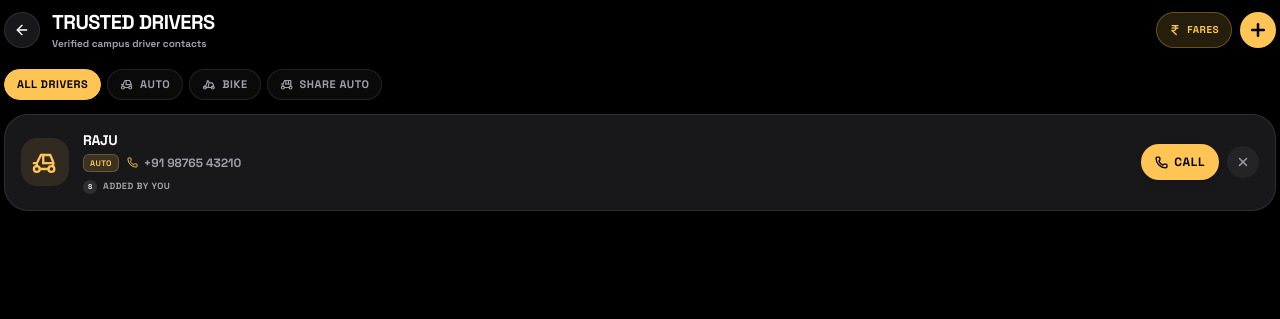
Test case: TrustedVehiclesView › deletes an owned vehicle but hides delete on other users' entries
The width and height of the screenshot is (1280, 319).
Expected: the heading "Raju" is shown, [83, 130, 117, 148]
Click the button named "Delete trusted vehicle".
click(1243, 162)  # box [1227, 146, 1259, 178]
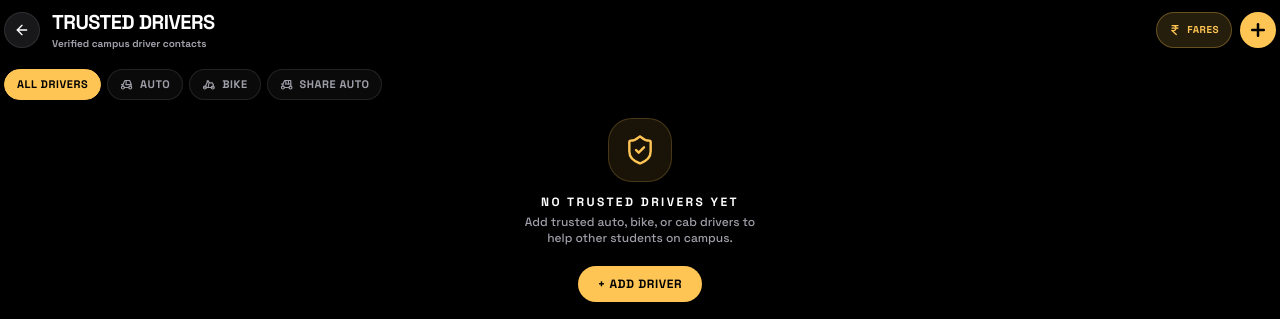
Now the heading "Raju" is gone
